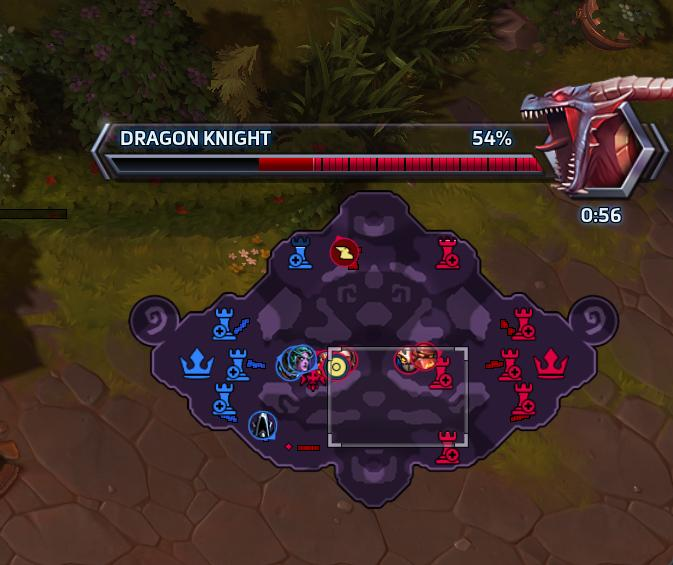blue nexus: (177, 347, 216, 382)
blue player: (276, 345, 314, 381), (247, 410, 277, 441)
blue tower: (212, 306, 240, 341), (225, 347, 255, 379), (287, 235, 313, 270), (211, 384, 236, 418)
red nexus: (532, 344, 572, 383)
red player: (329, 236, 361, 269), (324, 348, 356, 380), (411, 341, 440, 370), (393, 346, 419, 373), (416, 349, 436, 368)
red tower: (510, 305, 541, 344), (435, 426, 462, 468), (509, 381, 536, 418), (495, 347, 523, 382), (434, 235, 459, 269), (431, 355, 455, 390)
